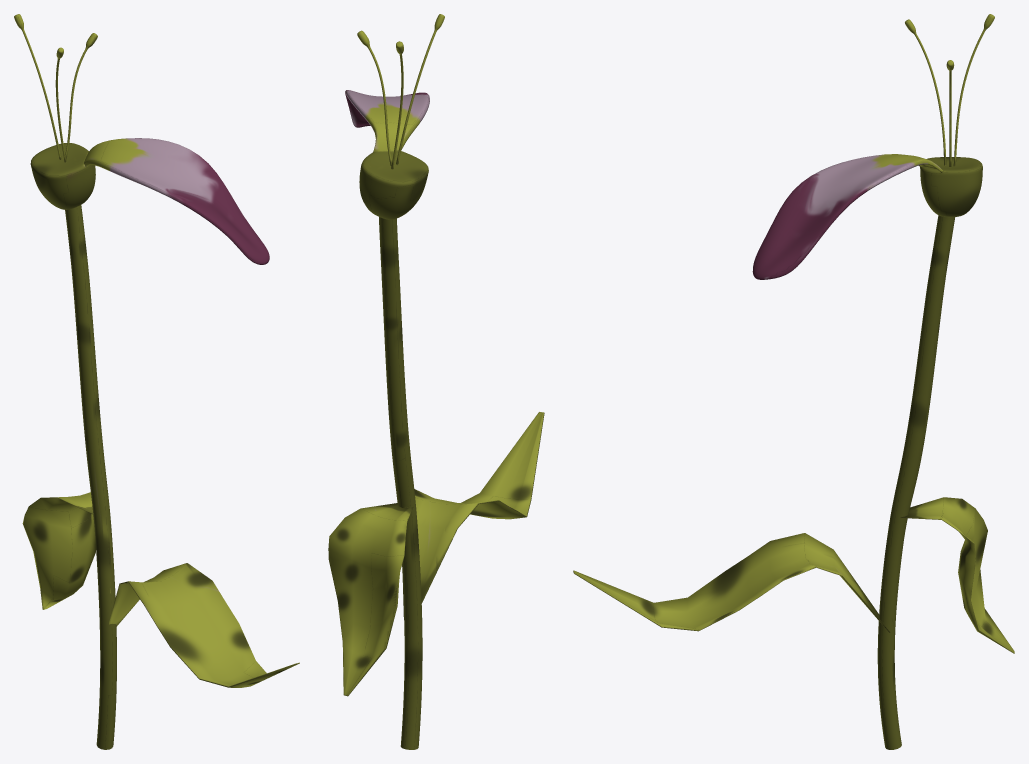
File: Lilly_Dead.fbx
3 views of the same model, side by side, from view 1: azimuth 30°, elevation 25°; view 2: azimuth 150°, elevation 25°; view 3: azimuth 270°, elevation 25° (orthographic). The views are drawn at different scales.
Visible parts, largest first — view 1: Laf2.002; view 2: Laf2.002; view 3: Laf2.002.
Part boxes in pixels (x1,y1,x2,y2): Laf2.002: [14, 14, 299, 749]; Laf2.002: [328, 14, 544, 749]; Laf2.002: [573, 14, 1014, 749].
Bounding box in the file's own units: 14.26 × 66.51 × 37.29.
